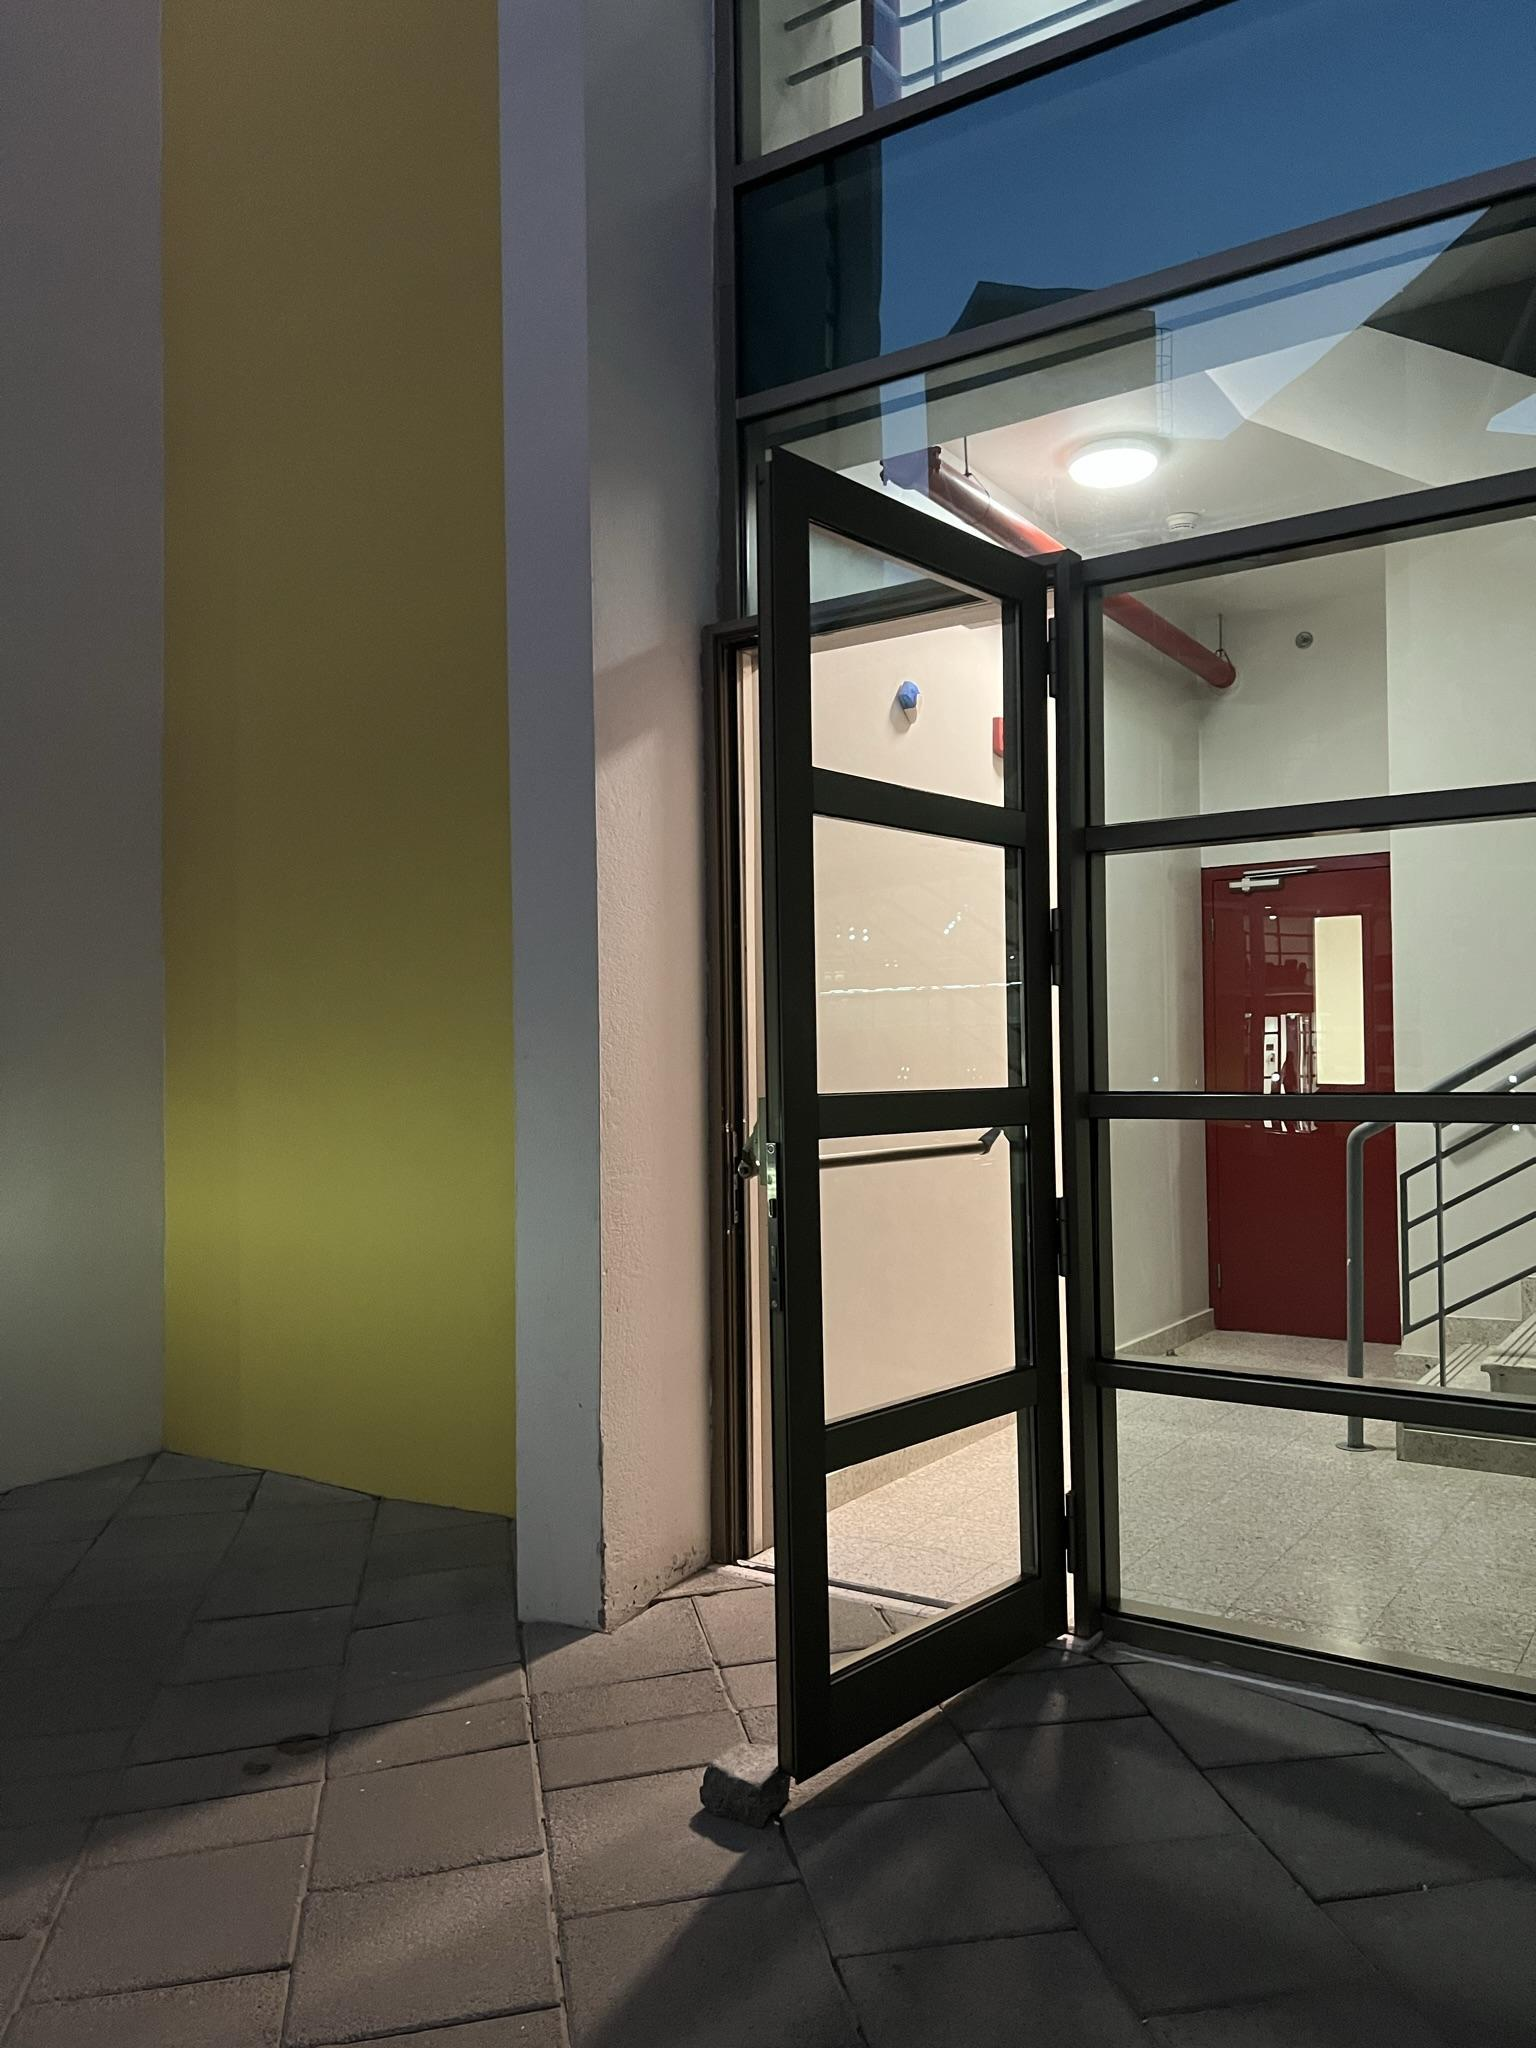door: (762, 431, 1065, 1742)
